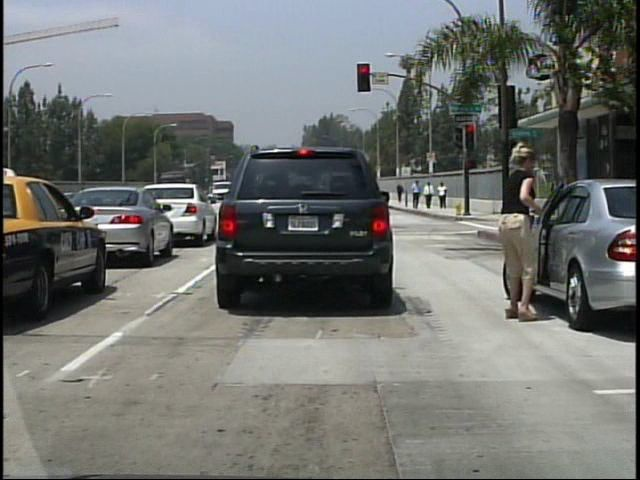person: (504, 140, 567, 321), (413, 178, 424, 209), (439, 181, 450, 209), (425, 181, 436, 209), (396, 182, 405, 203)
